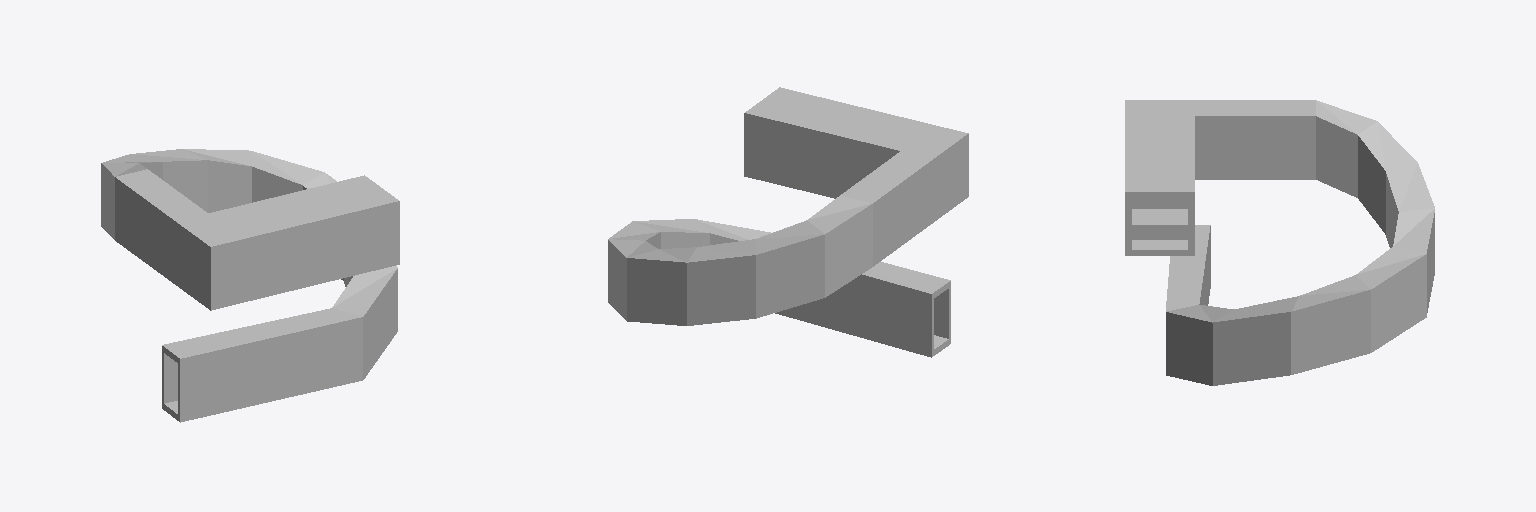
Rendered from cage.obj.
The picture shows the model from 3 angles: view 1: azimuth 30°, elevation 25°; view 2: azimuth 150°, elevation 25°; view 3: azimuth 270°, elevation 25°; orthographic projection.
Parts seen in each view (by area): view 1: 立方體; view 2: 立方體; view 3: 立方體.
Boxes of the visible parts, box(x1,y1,x2,y2) form: 立方體: box(101, 149, 399, 422); 立方體: box(608, 87, 968, 357); 立方體: box(1125, 100, 1434, 385).
Size of the model in its own units: 116 by 82.07 by 121.